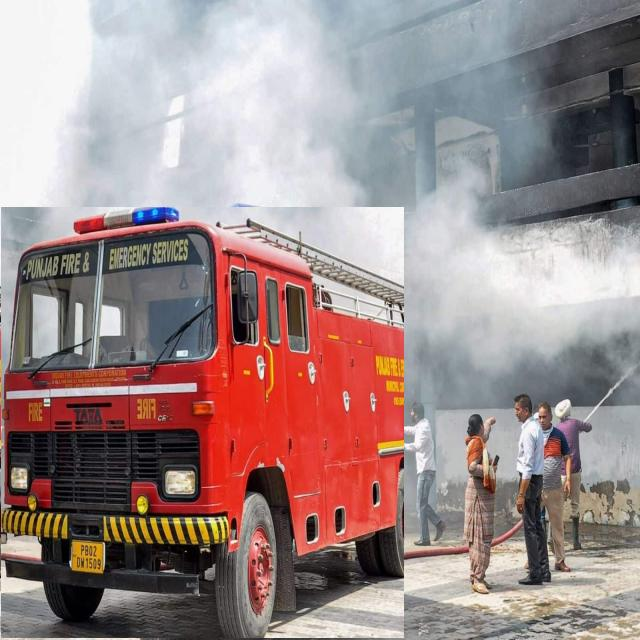emergency: (0, 207, 404, 638)
